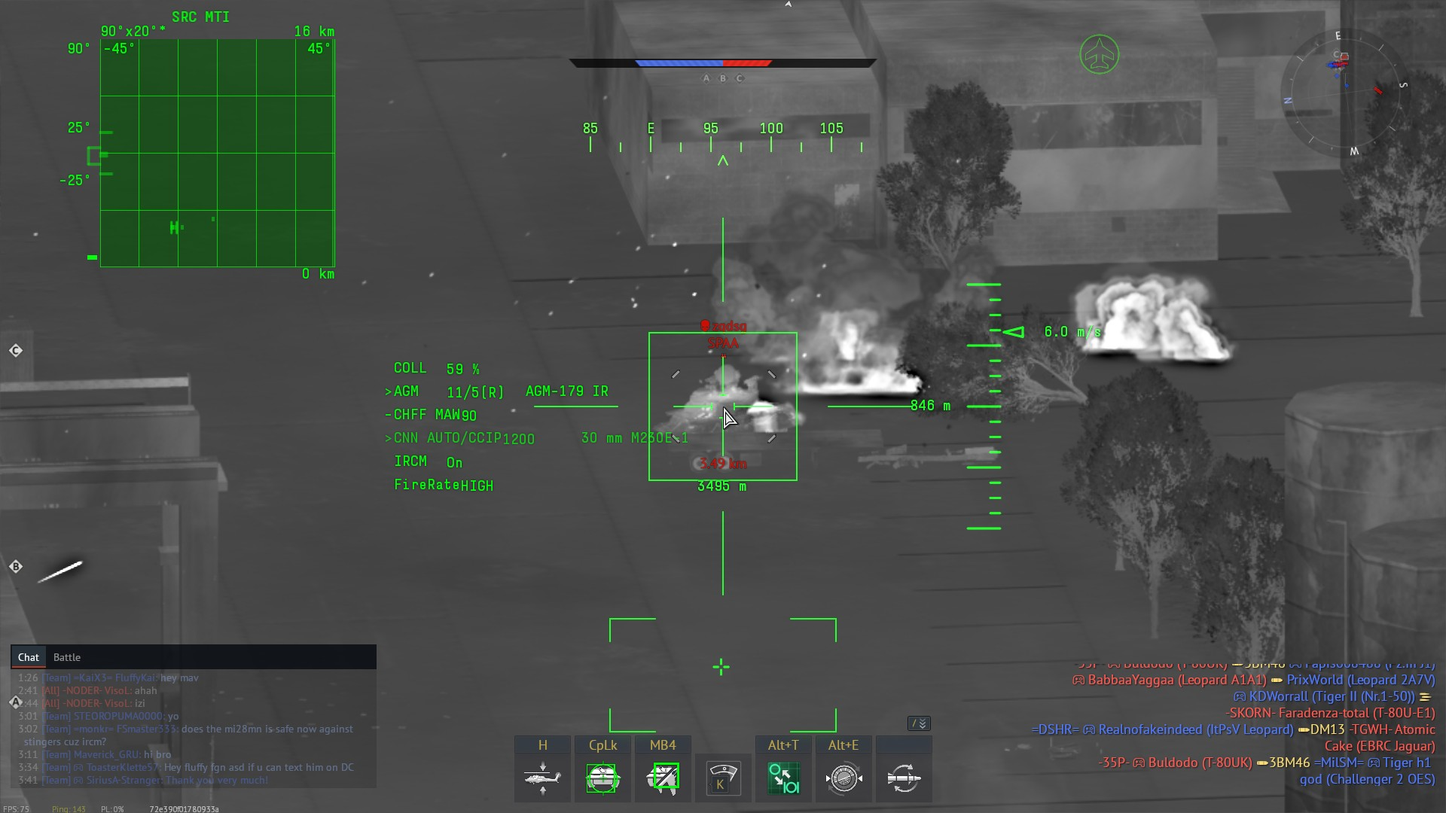spaa_zsu-23: (653, 364, 798, 445)
